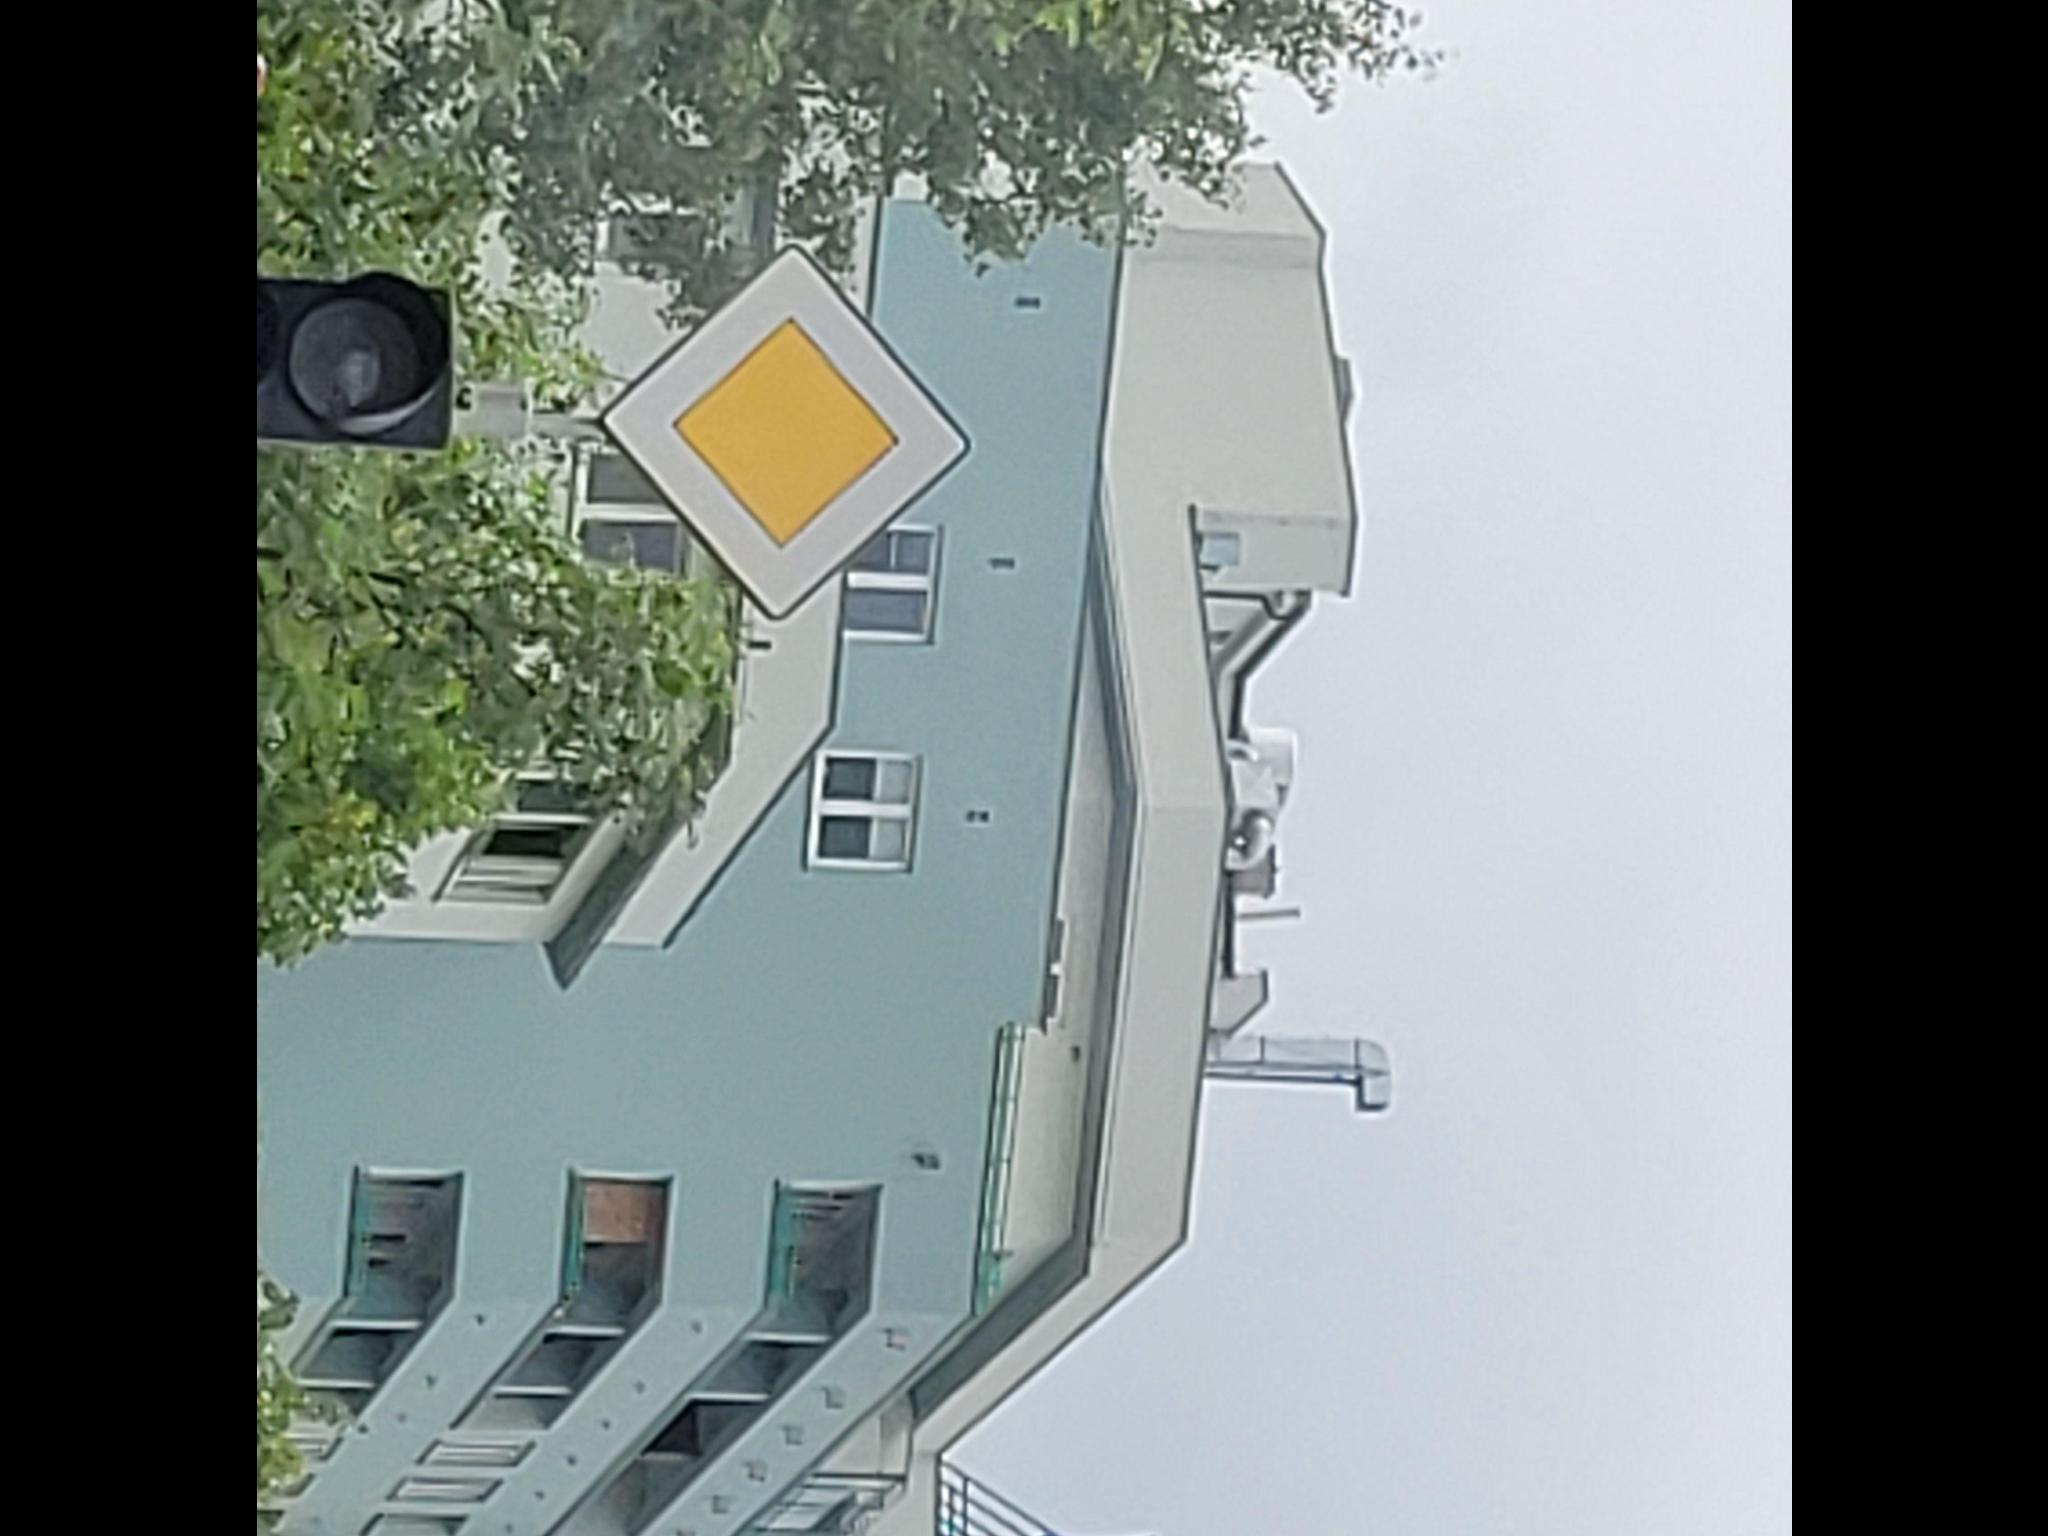information: (597, 244, 974, 623)
